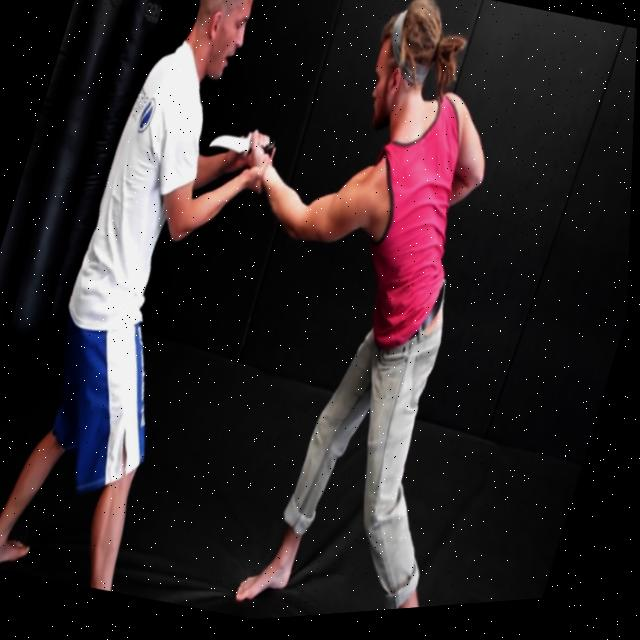knife: (207, 123, 254, 162)
